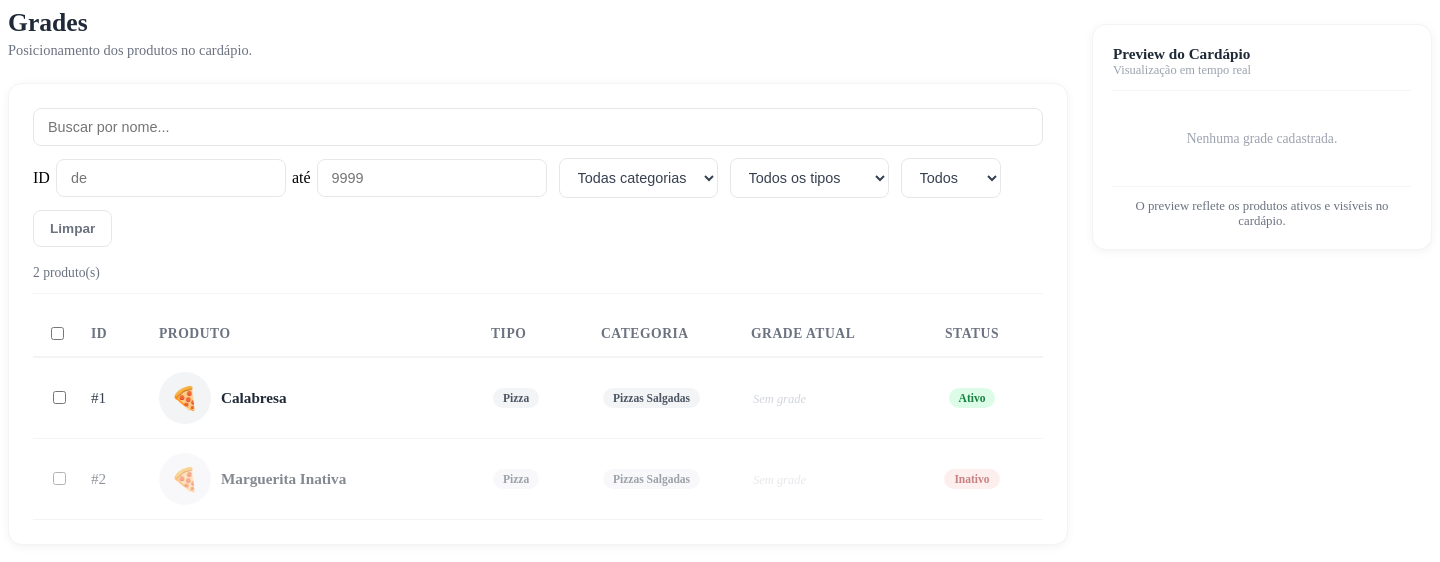
Test case: AdminGrades › botão Limpar restaura todos os filtros
This screenshot has width=1440, height=562.
Expected: the text "Calabresa" is shown, [221, 389, 286, 406]
Type "marguerita" into the field with placeholder "Buscar por nome..." at coordinates (538, 127), box [33, 108, 1043, 146]
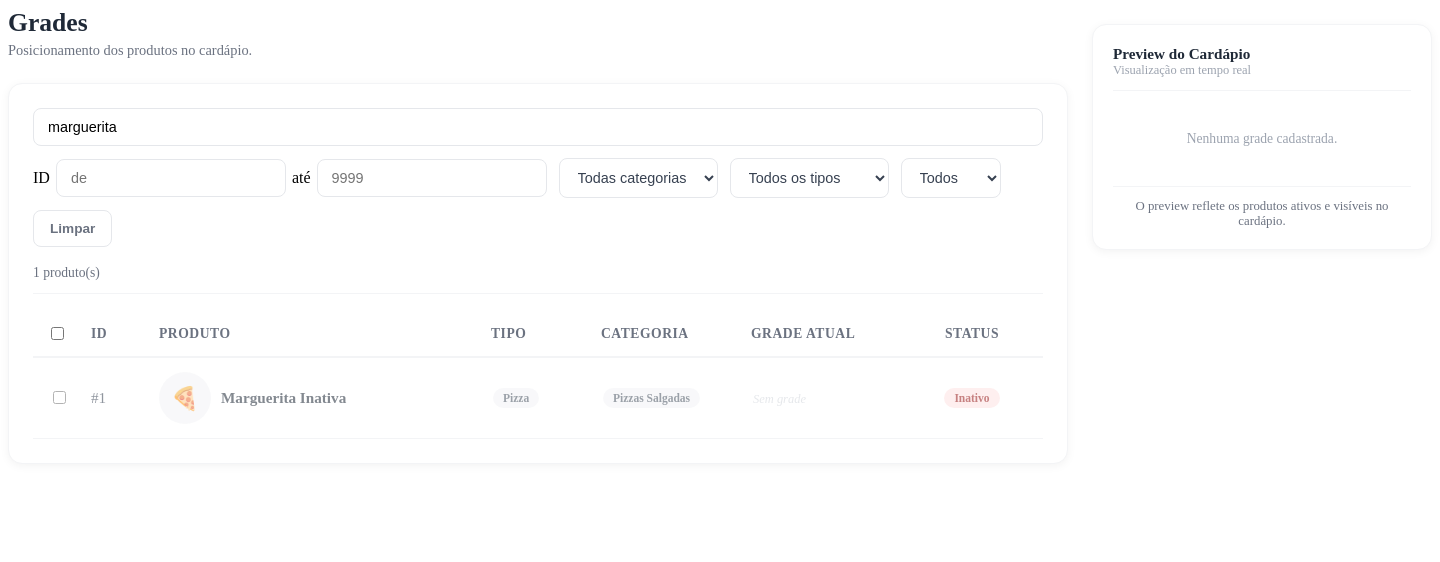
Result: the text "1 produto(s)" is shown at [33, 265, 100, 281]
Click the button "Limpar" at coordinates (73, 228), box [33, 210, 112, 247]
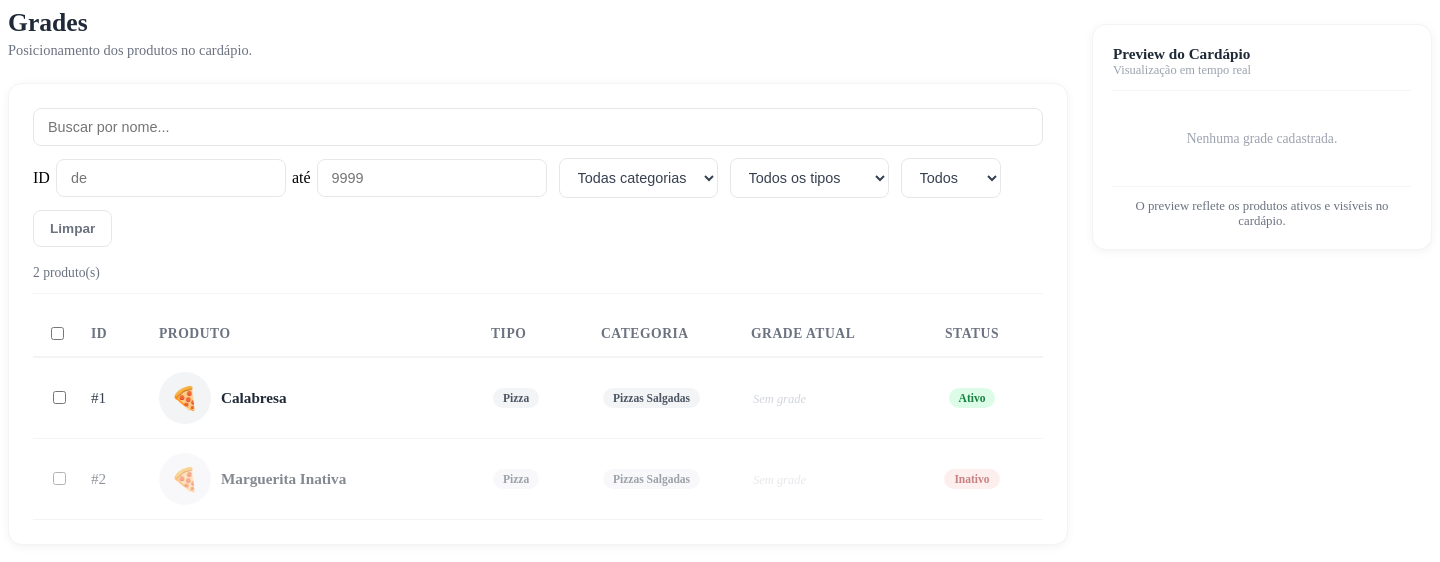
Result: the field with placeholder "Buscar por nome..." is empty at [33, 108, 1043, 146]
Result: the text "2 produto(s)" is shown at [33, 265, 100, 281]
